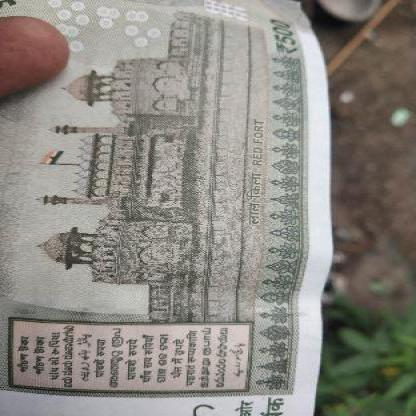New500Back: (0, 0, 316, 415)
